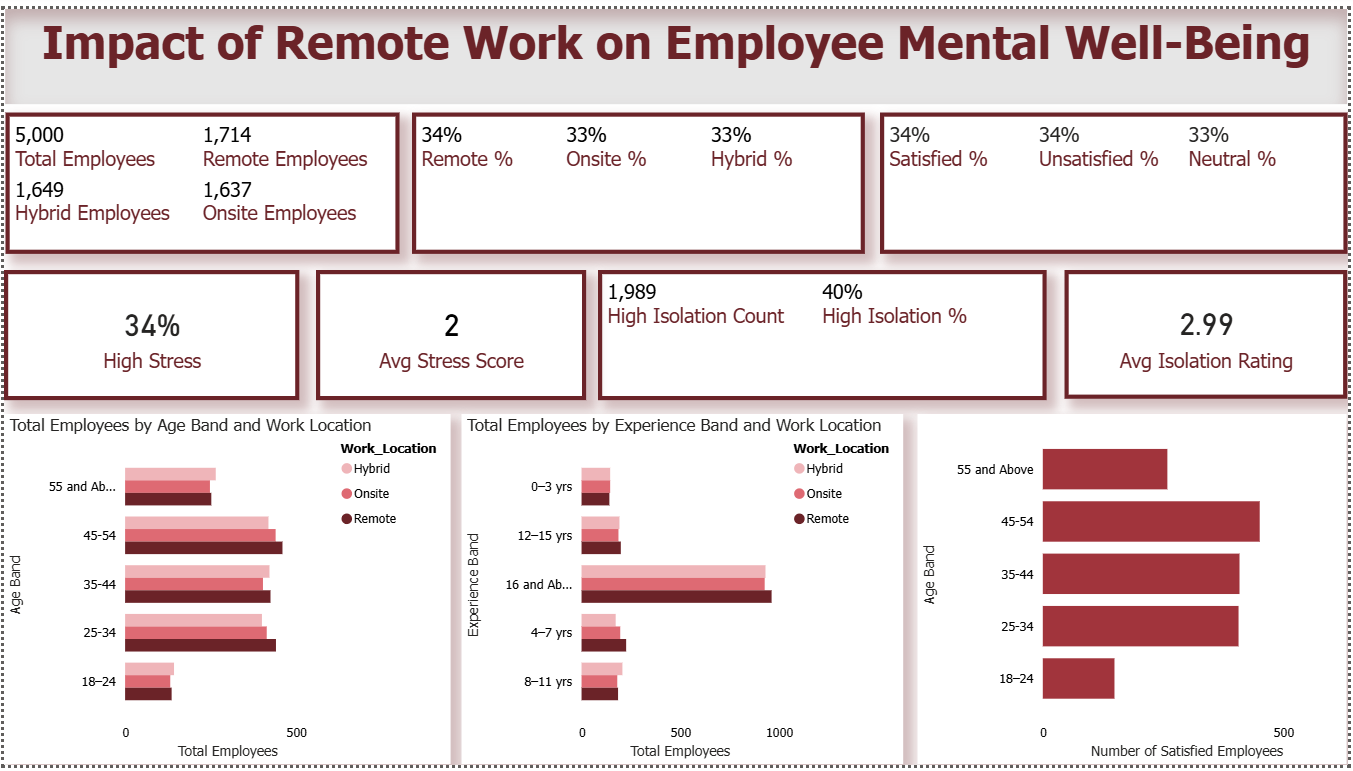

What the dashboard file says about the page in this screenshot:
{"tool":"powerbi","page":{"name":"Page 1","canvas":[1280,720],"ordinal":0},"visuals":[{"type":"multiRowCard","fields":{"Values":["DAX Measures.Total Employees","DAX Measures.Remote Employees","DAX Measures.Hybrid Employees","DAX Measures.Onsite Employees"]},"box":[1.5,98.4,375.5,134.8],"z":0},{"type":"multiRowCard","fields":{"Values":["DAX Measures.Remote %","DAX Measures.Onsite %","DAX Measures.Hybrid %"]},"box":[389.2,98.4,431.5,134.8],"z":1000},{"type":"multiRowCard","fields":{"Values":["DAX Measures.Satisfied %","DAX Measures.Unsatisfied %","DAX Measures.Neutral %"]},"box":[834.3,98.4,445.2,134.8],"z":2000},{"type":"card","fields":{"Values":["DAX Measures.High Stress"]},"box":[0,248.3,281.6,124.2],"z":3000},{"type":"multiRowCard","fields":{"Values":["DAX Measures.High Isolation Count","DAX Measures.High Isolation %"]},"box":[566.3,248.3,427,124.2],"z":4000},{"type":"card","fields":{"Values":["DAX Measures.Avg Isolation Rating"]},"box":[1010,248.3,269.5,122.7],"z":5000},{"type":"card","fields":{"Values":["DAX Measures.Avg Stress Score"]},"box":[296.8,248.3,257.4,124.2],"z":6000},{"type":"clusteredBarChart","title":"Total Employees by Age Band and Work Location","fields":{"Series":["Impact_of_Remote_Work_on_Mental_Health.Work_Location"],"Category":["Impact_of_Remote_Work_on_Mental_Health.Age_Band"],"Y":["DAX Measures.Total Employees"]},"box":[0,386.1,425.5,333.1],"z":7000},{"type":"clusteredBarChart","title":"Total Employees by Experience Band and Work Location","fields":{"Category":["Impact_of_Remote_Work_on_Mental_Health.Experience_Band"],"Y":["DAX Measures.Total Employees"],"Series":["Impact_of_Remote_Work_on_Mental_Health.Work_Location"]},"box":[436.1,386.1,420.9,333.1],"z":8000},{"type":"clusteredBarChart","fields":{"Category":["Impact_of_Remote_Work_on_Mental_Health.Age_Band"],"Y":["DAX Measures.Satisfied"]},"box":[870.7,386.1,408.8,333.1],"z":9000},{"type":"textbox","box":[1.5,0,1278,90.9],"z":10000}]}

Visuals, with their boxes in screenshot pixels (x1, y1, x2, y2), scaled from the page's 1280x720 canvas onto the 1353x771 screenshot:
multiRowCard - DAX Measures.Total Employees x DAX Measures.Remote Employees: bbox(2, 105, 399, 250)
multiRowCard - DAX Measures.Remote % x DAX Measures.Onsite %: bbox(411, 105, 868, 250)
multiRowCard - DAX Measures.Satisfied % x DAX Measures.Unsatisfied %: bbox(882, 105, 1352, 250)
card - DAX Measures.High Stress: bbox(0, 266, 298, 399)
multiRowCard - DAX Measures.High Isolation Count x DAX Measures.High Isolation %: bbox(599, 266, 1050, 399)
card - DAX Measures.Avg Isolation Rating: bbox(1068, 266, 1352, 397)
card - DAX Measures.Avg Stress Score: bbox(314, 266, 586, 399)
"Total Employees by Age Band and Work Location" clusteredBarChart: bbox(0, 413, 450, 770)
"Total Employees by Experience Band and Work Location" clusteredBarChart: bbox(461, 413, 906, 770)
clusteredBarChart - Impact_of_Remote_Work_on_Mental_Health.Age_Band x DAX Measures.Satisfied: bbox(920, 413, 1352, 770)
textbox: bbox(2, 0, 1352, 97)
